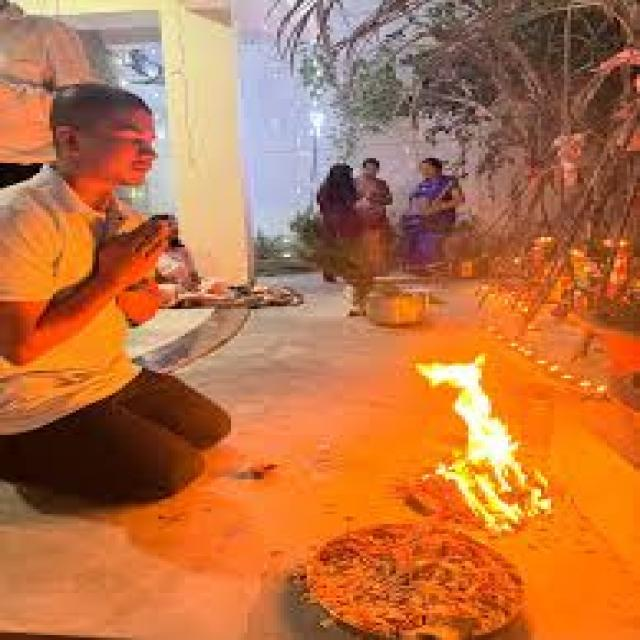fire: (418, 354, 555, 533)
